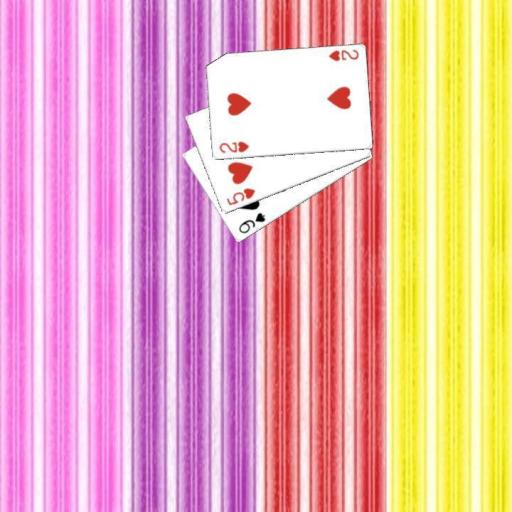card-corner: (235, 210, 267, 235), (223, 185, 257, 207), (325, 47, 360, 63), (216, 139, 250, 155)
